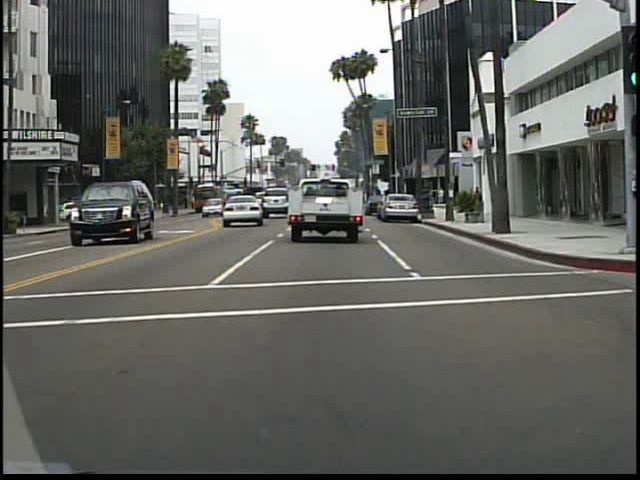person: (468, 182, 485, 217)
